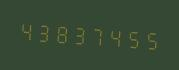eight: (53, 17, 70, 48)
five: (125, 22, 142, 53), (143, 23, 160, 54)
four: (17, 14, 34, 46), (107, 21, 124, 52)
seven: (89, 20, 106, 51)
three: (35, 16, 52, 47), (71, 18, 88, 49)
